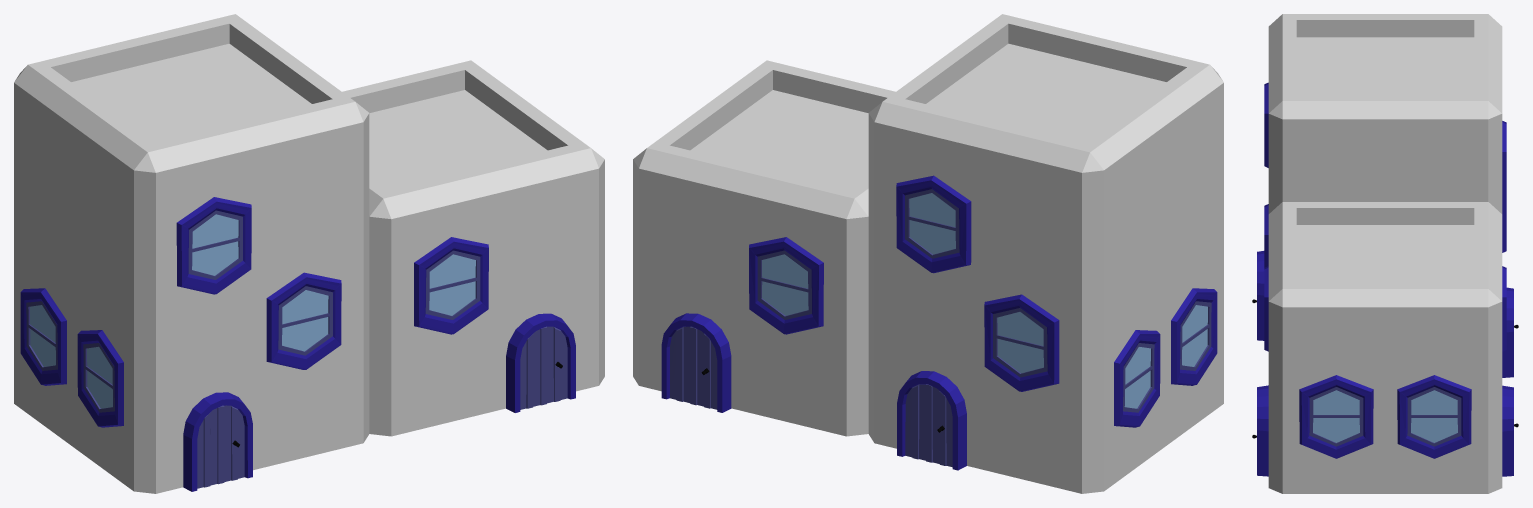
The model's file is HouseSeaChief.fbx.
The picture shows the model from 3 angles, left to right: view 1: azimuth 30°, elevation 25°; view 2: azimuth 150°, elevation 25°; view 3: azimuth 270°, elevation 25°; orthographic projection. The views are drawn at different scales.
Visible parts, largest first — view 1: Cube.010; view 2: Cube.010; view 3: Cube.010.
Boxes of the visible parts, bbox=[...] form: Cube.010: bbox=[14, 14, 604, 493]; Cube.010: bbox=[633, 14, 1223, 493]; Cube.010: bbox=[1252, 14, 1518, 493].
Bounding box in the file's own units: 670 × 448 × 374.
